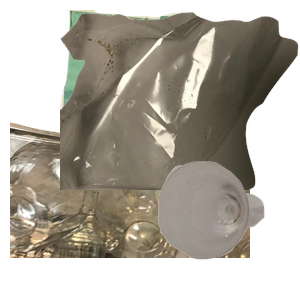glass: (156, 159, 300, 300)
paper: (55, 10, 255, 190)
plastic: (10, 120, 250, 300)
trash: (60, 10, 300, 190)
